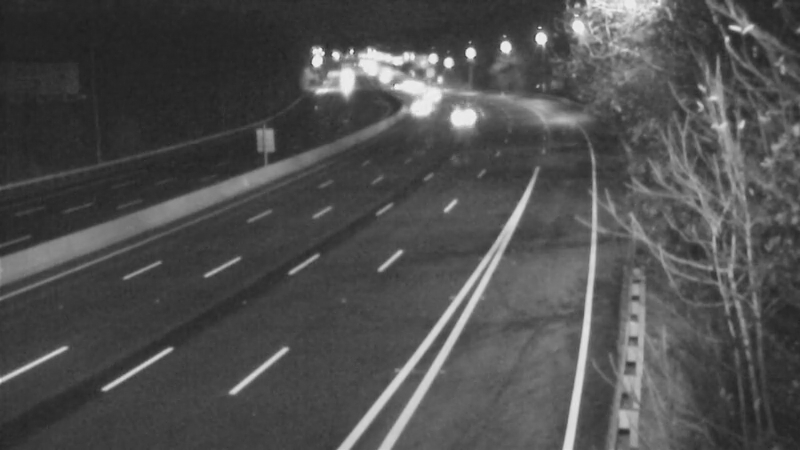vehicle: (405, 68, 455, 118), (397, 85, 447, 135), (435, 93, 485, 143)
